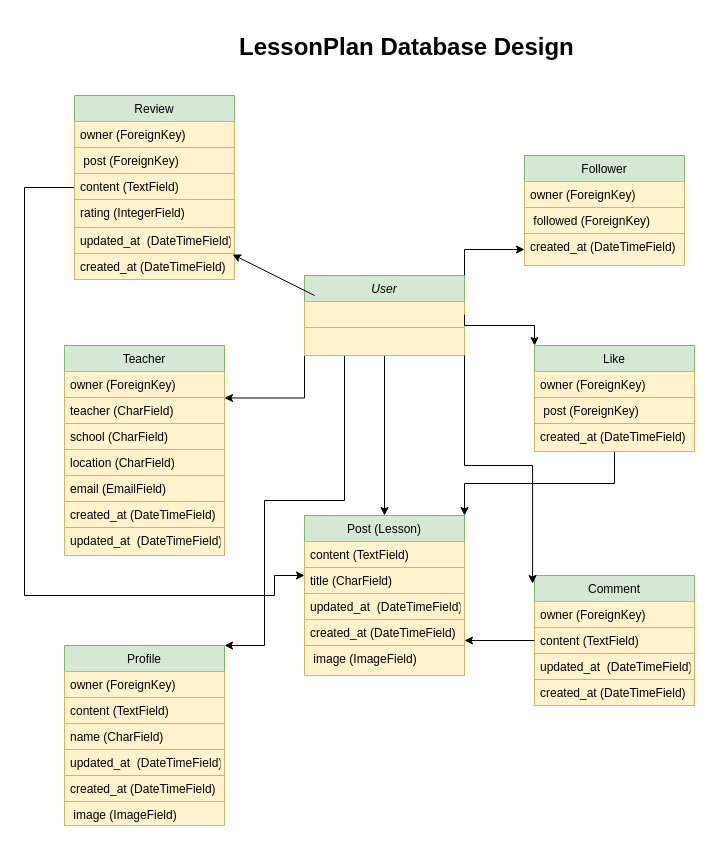
Some shapes in this 712 by 845 pixel diagram are drawn without their labels. The centre of each missing label's shape, as x and y in pixels:
password (CharField): (384,341)
username (CharField): (384,314)
